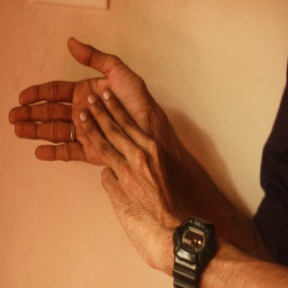M: (8, 35, 163, 184)
